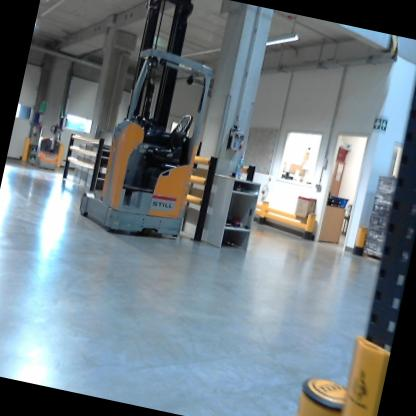forklift: (76, 0, 234, 244)
pallet_truck: (29, 113, 72, 177)
